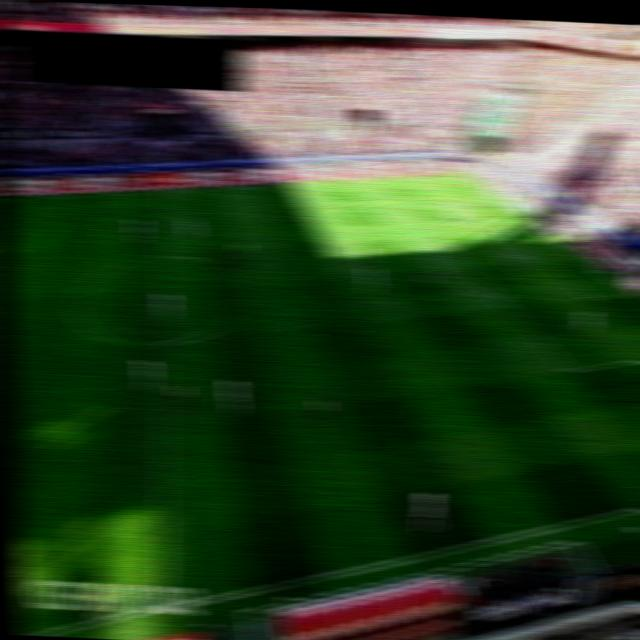bigarea_bottom_inner: (557, 365, 580, 377)
bigarea_top_inner: (396, 202, 417, 213)
bigarea_top_outter: (488, 196, 511, 209)
bottom_arc_area_intersection: (486, 292, 508, 304)
corner: (451, 171, 473, 183)
halfcircle_bottom: (151, 337, 172, 349)
halfcircle_top: (152, 251, 174, 264)
midline_bottom_intersection: (149, 599, 177, 617)
midline_top_intersection: (153, 183, 175, 196)
smallarea_bottom_inner: (581, 292, 602, 304)
smallarea_bottom_outter: (620, 288, 640, 299)
smallarea_top_inner: (497, 225, 518, 240)
smallarea_top_outter: (530, 224, 551, 236)
top_arc_area_intersection: (431, 236, 452, 248)
